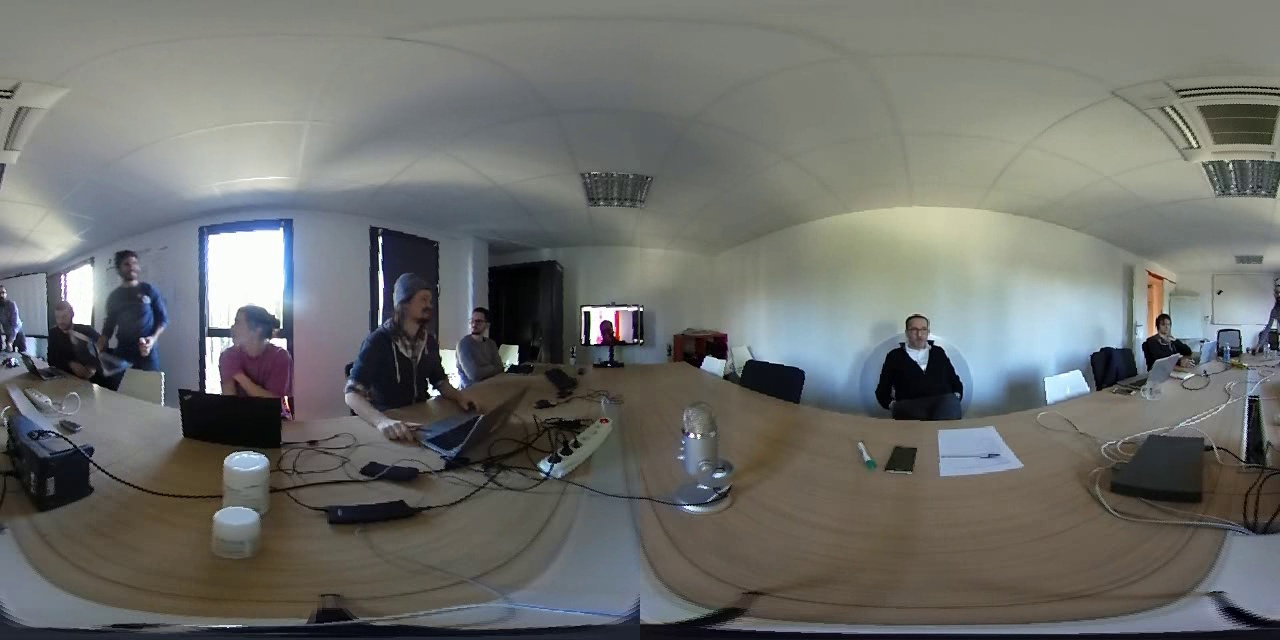person: (337, 268, 443, 426), (875, 306, 975, 430), (98, 241, 184, 369), (205, 300, 295, 398), (40, 289, 98, 366), (451, 300, 504, 373), (1141, 307, 1195, 360), (5, 285, 31, 357), (590, 304, 626, 341)
